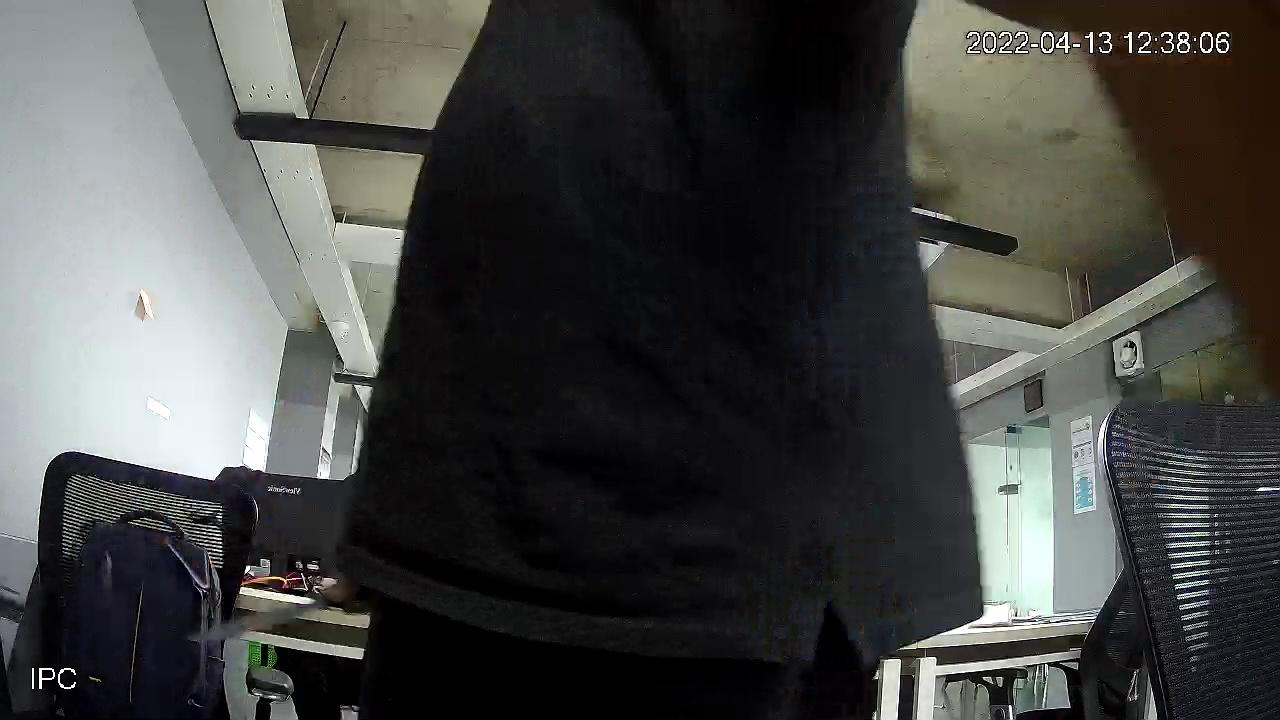knives: (179, 574, 354, 659)
